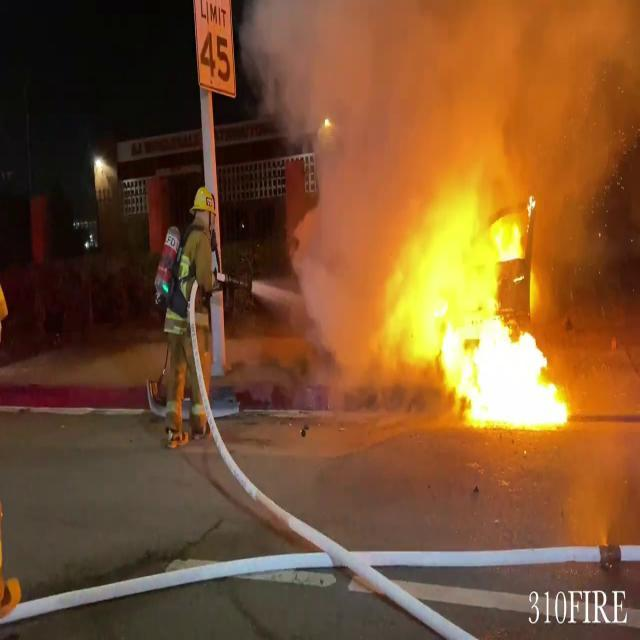Fire: (388, 188, 578, 436)
Smoke: (239, 0, 634, 277)
